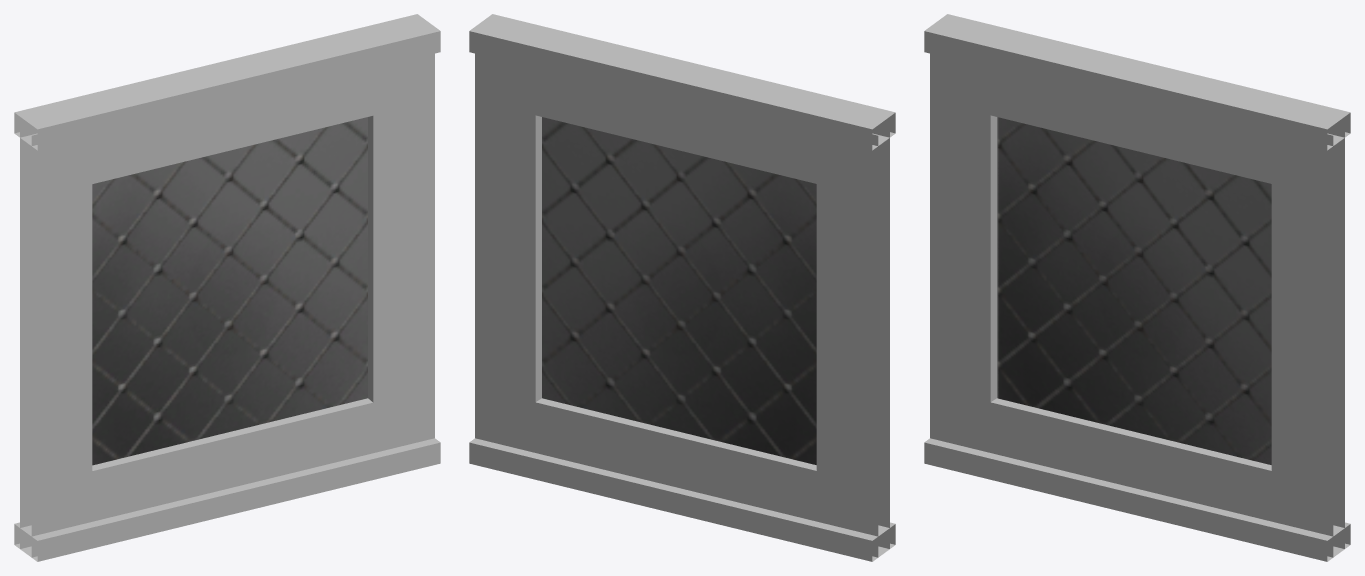
File: Wall_2_7.fbx
3 renders of one model, left to right at view 1: azimuth 30°, elevation 25°; view 2: azimuth 150°, elevation 25°; view 3: azimuth 330°, elevation 25°, orthographic.
Parts seen in each view (by area): view 1: polySurface9846; view 2: polySurface9846; view 3: polySurface9846.
Boxes of the visible parts, x1,y1,x2,y2 form: polySurface9846: (14, 14, 440, 561); polySurface9846: (469, 14, 895, 561); polySurface9846: (924, 14, 1350, 561).
Size of the model in its own units: 4 by 4.1 by 0.4.
